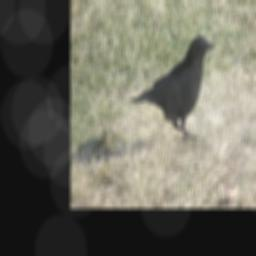Crow: (132, 32, 217, 140)
